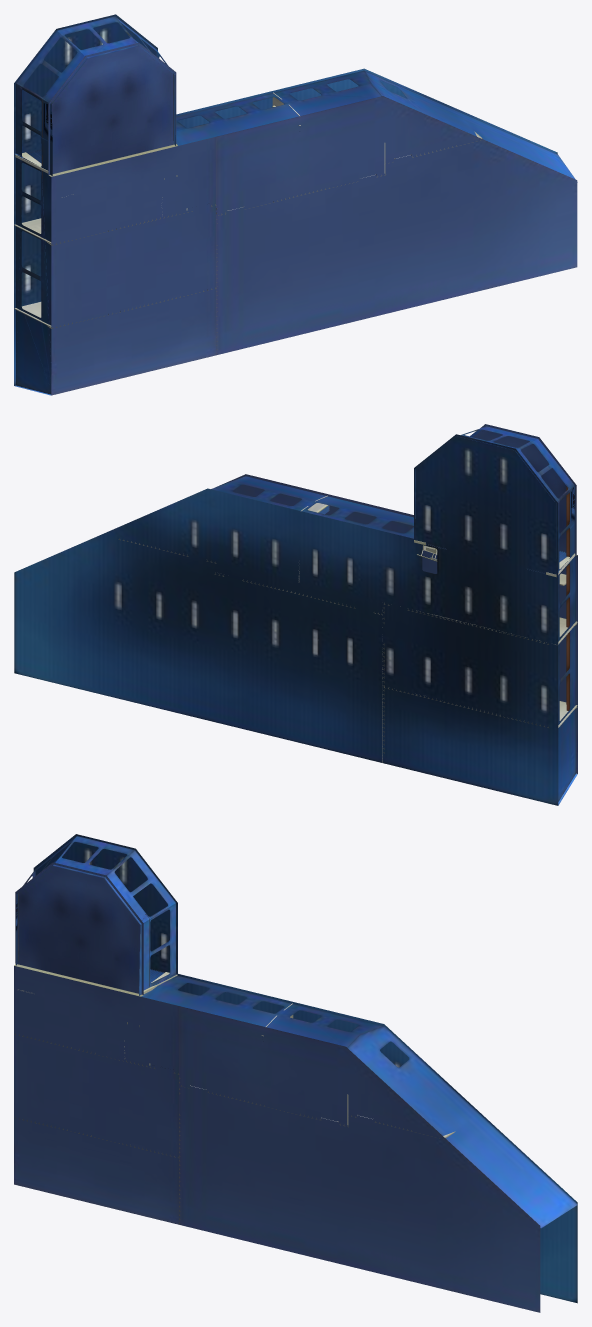
File: cvfFrIlotArriereMurIntPont3.fbx
The picture shows the model from 3 angles, top to bottom: view 1: azimuth 30°, elevation 25°; view 2: azimuth 150°, elevation 25°; view 3: azimuth 330°, elevation 25°; orthographic projection.
Visible parts, largest first — view 1: ShapeIndexedFaceSet; view 2: ShapeIndexedFaceSet; view 3: ShapeIndexedFaceSet.
Part boxes in pixels (x1,y1,x2,y2): ShapeIndexedFaceSet: [14, 14, 577, 395]; ShapeIndexedFaceSet: [14, 424, 577, 805]; ShapeIndexedFaceSet: [14, 834, 577, 1312].
Size of the model in its own units: 28.67 by 17.46 by 3.2.
